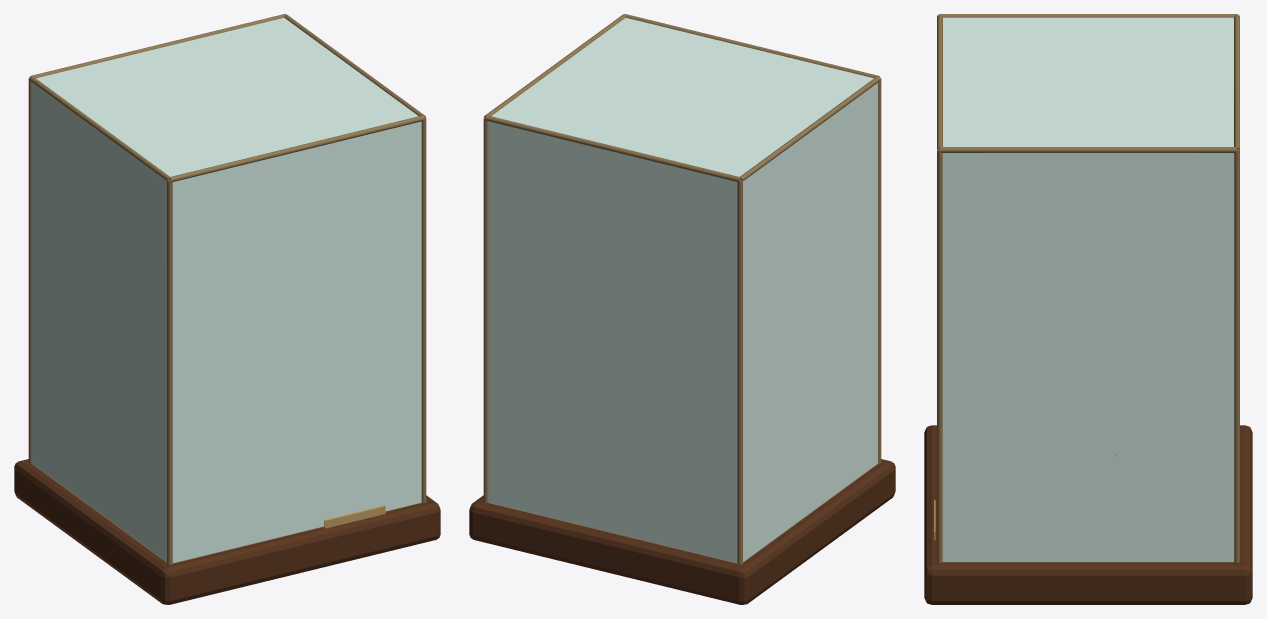
Rendered from entry-terrarium.glb.
3 views of the same model, side by side, from view 1: azimuth 30°, elevation 25°; view 2: azimuth 150°, elevation 25°; view 3: azimuth 270°, elevation 25° (orthographic). The views are drawn at different scales.
Parts seen in each view (by area): view 1: part::entry-terrarium/front-rear-glass-pane-002, part::entry-terrarium/side-glass-pane-001, part::entry-terrarium/glass-lid-001, part::entry-terrarium/walnut-display-plinth-001, part::entry-terrarium/brass-corner-mullion-002, part::entry-terrarium/brass-corner-mullion-004, part::entry-terrarium/horizontal-frame-004, part::entry-terrarium/brass-corner-mullion-001, part::entry-terrarium/horizontal-frame-003, part::entry-terrarium/side-frame-003, part::entry-terrarium/side-frame-004, part::entry-terrarium/botanical-specimen-label-001; view 2: part::entry-terrarium/front-rear-glass-pane-001, part::entry-terrarium/side-glass-pane-001, part::entry-terrarium/glass-lid-001, part::entry-terrarium/walnut-display-plinth-001, part::entry-terrarium/brass-corner-mullion-001, part::entry-terrarium/brass-corner-mullion-003, part::entry-terrarium/horizontal-frame-003, part::entry-terrarium/brass-corner-mullion-002, part::entry-terrarium/horizontal-frame-004, part::entry-terrarium/side-frame-003, part::entry-terrarium/side-frame-004; view 3: part::entry-terrarium/side-glass-pane-002, part::entry-terrarium/glass-lid-001, part::entry-terrarium/walnut-display-plinth-001, part::entry-terrarium/brass-corner-mullion-003, part::entry-terrarium/brass-corner-mullion-004, part::entry-terrarium/side-frame-004, part::entry-terrarium/side-frame-003, part::entry-terrarium/horizontal-frame-003, part::entry-terrarium/horizontal-frame-004.
Boxes of the visible parts, x1,y1,x2,y2 form: part::entry-terrarium/front-rear-glass-pane-002: (172,121,421,562); part::entry-terrarium/side-glass-pane-001: (32,83,166,561); part::entry-terrarium/glass-lid-001: (36,18,418,176); part::entry-terrarium/walnut-display-plinth-001: (14,459,440,604); part::entry-terrarium/brass-corner-mullion-002: (167,180,172,564); part::entry-terrarium/brass-corner-mullion-004: (421,117,426,502); part::entry-terrarium/horizontal-frame-004: (169,115,424,182); part::entry-terrarium/brass-corner-mullion-001: (28,78,31,463); part::entry-terrarium/horizontal-frame-003: (30,14,284,78); part::entry-terrarium/side-frame-003: (29,76,169,180); part::entry-terrarium/side-frame-004: (284,14,425,117); part::entry-terrarium/botanical-specimen-label-001: (324,505,385,528); part::entry-terrarium/front-rear-glass-pane-001: (488,121,737,562); part::entry-terrarium/side-glass-pane-001: (743,83,877,561); part::entry-terrarium/glass-lid-001: (491,18,873,176); part::entry-terrarium/walnut-display-plinth-001: (469,459,895,604); part::entry-terrarium/brass-corner-mullion-001: (737,180,742,564); part::entry-terrarium/brass-corner-mullion-003: (483,117,488,502); part::entry-terrarium/horizontal-frame-003: (485,115,740,182); part::entry-terrarium/brass-corner-mullion-002: (878,78,881,463); part::entry-terrarium/horizontal-frame-004: (625,14,879,78); part::entry-terrarium/side-frame-003: (740,76,880,180); part::entry-terrarium/side-frame-004: (484,14,625,117); part::entry-terrarium/side-glass-pane-002: (942,153,1234,561); part::entry-terrarium/glass-lid-001: (943,17,1233,146); part::entry-terrarium/walnut-display-plinth-001: (924,425,1252,604); part::entry-terrarium/brass-corner-mullion-003: (1234,150,1239,562); part::entry-terrarium/brass-corner-mullion-004: (937,150,942,562); part::entry-terrarium/side-frame-004: (940,147,1236,152); part::entry-terrarium/side-frame-003: (940,14,1236,17); part::entry-terrarium/horizontal-frame-003: (1234,14,1239,149); part::entry-terrarium/horizontal-frame-004: (937,14,942,149).
Bounding box in the file's own units: 0.396 × 0.5735 × 0.376.
